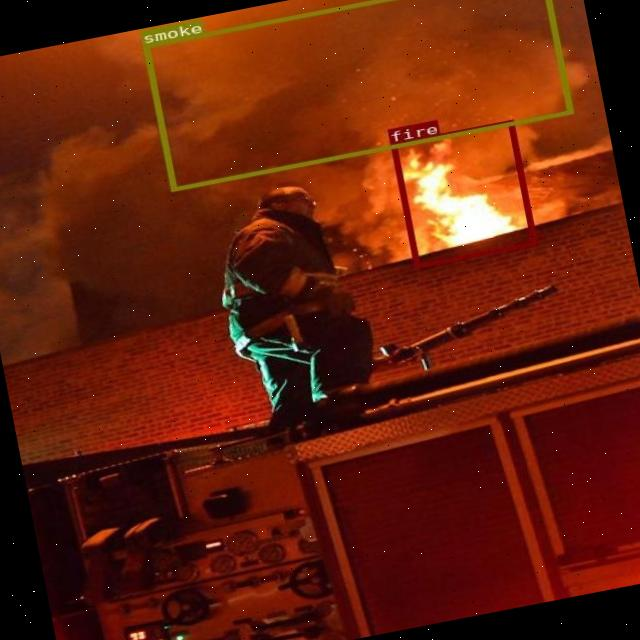fire: (390, 120, 536, 268)
smoke: (142, 0, 572, 191)
